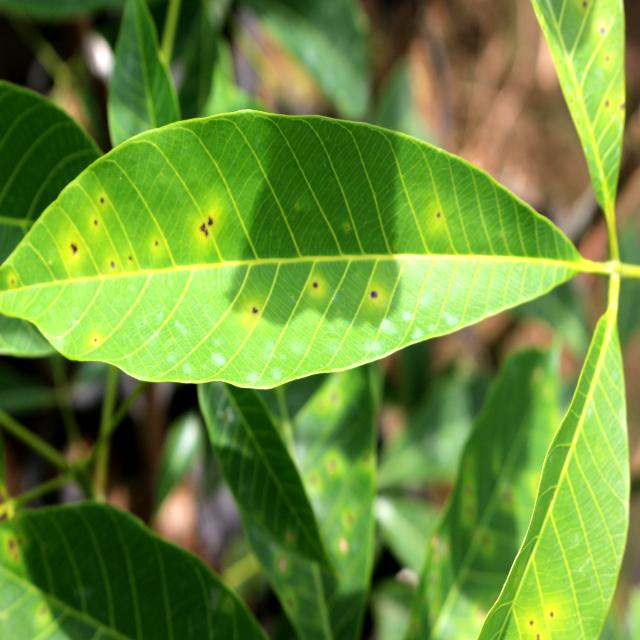Colletotrichum: (371, 292, 377, 298), (253, 307, 257, 313), (313, 282, 317, 287)
